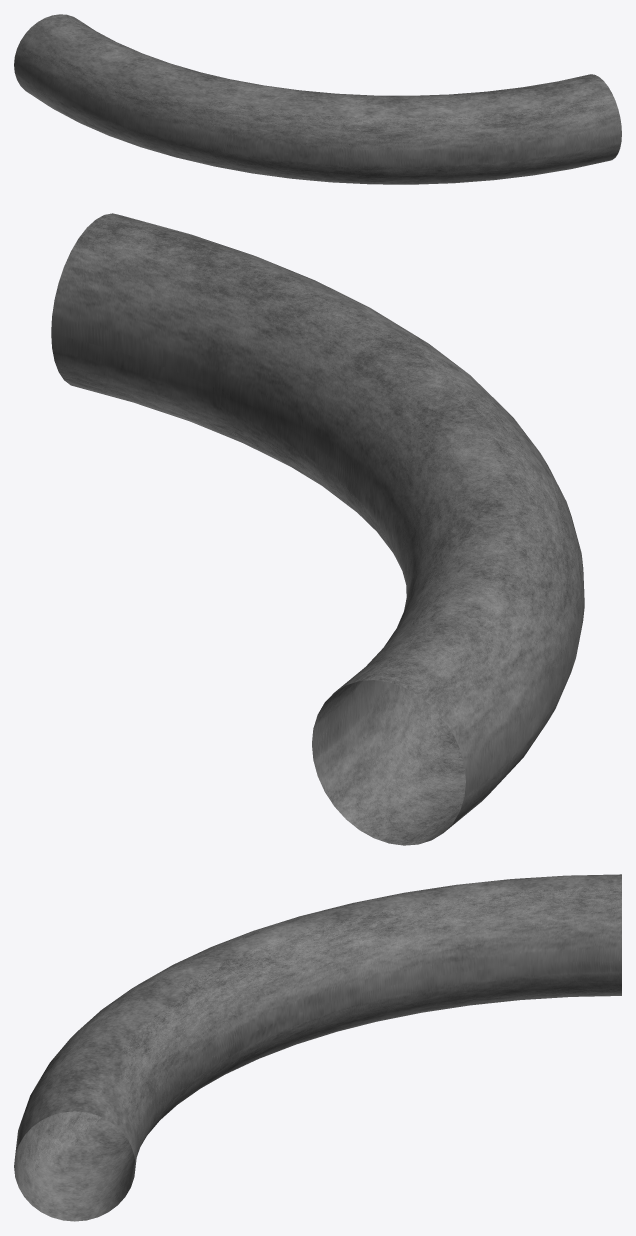
File: frame_curve.fbx
3 views of the same model, one above another, from view 1: azimuth 30°, elevation 25°; view 2: azimuth 150°, elevation 25°; view 3: azimuth 270°, elevation 25° (orthographic). The views are drawn at different scales.
Visible parts, largest first — view 1: Frame_Curve; view 2: Frame_Curve; view 3: Frame_Curve.
Boxes of the visible parts, left/top/right/bottom form: Frame_Curve: left=14, top=14, right=621, bottom=184; Frame_Curve: left=51, top=213, right=584, bottom=845; Frame_Curve: left=14, top=874, right=621, bottom=1221.
Bounding box in the file's own units: 25 × 5 × 25.
Materials: 1 (1 with a texture image).
